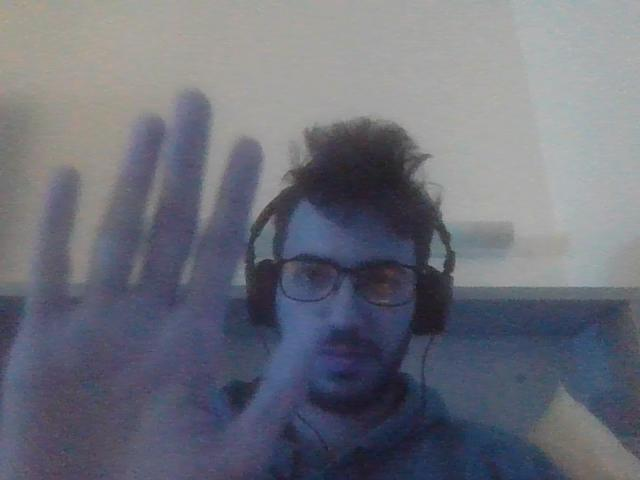Hello: (6, 84, 319, 480)
